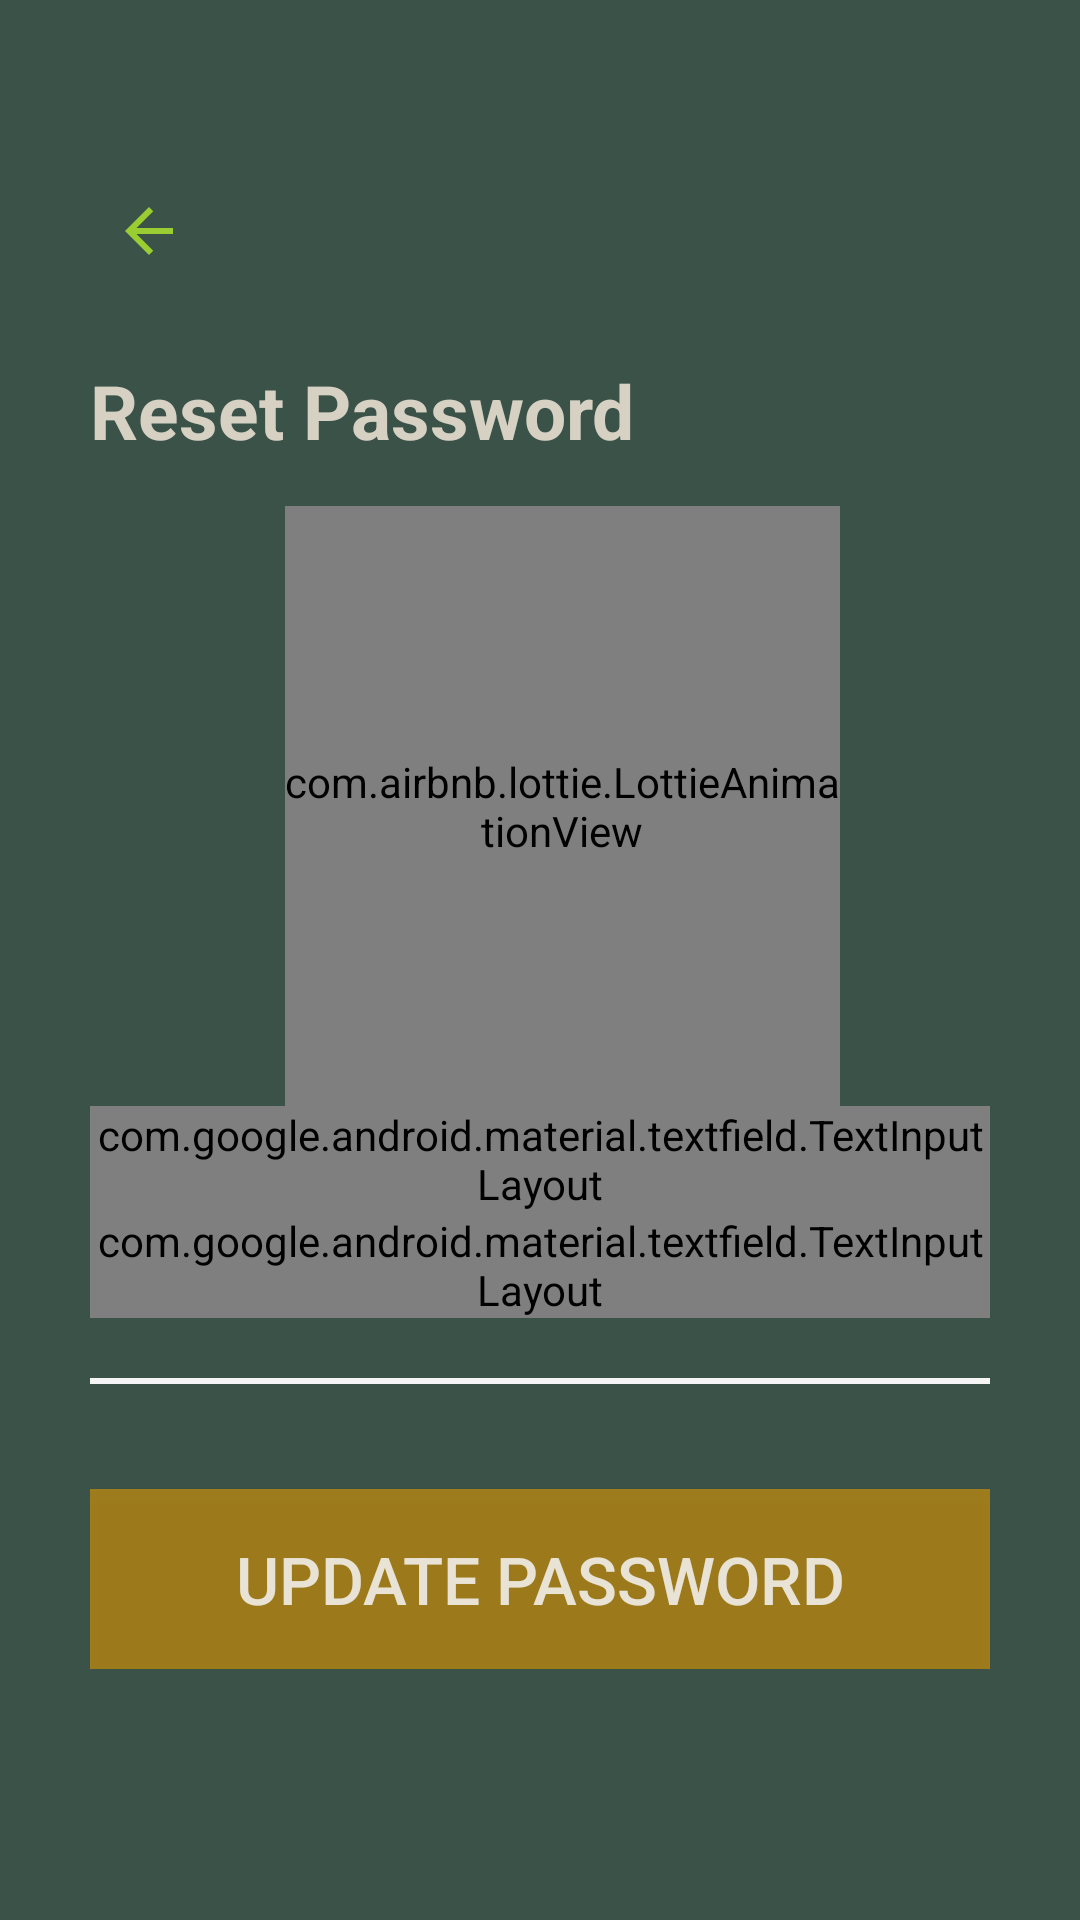

Named icons in this screenshot (1080x1920) and their centers, [x,y]:
arrow back: [149,231]
